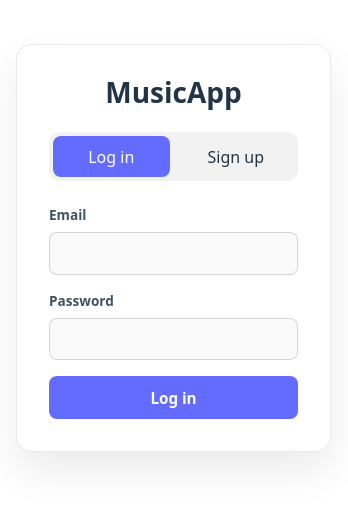
Test case: MVP-002 auth screen smoke › shows the server error when login is rejected
The width and height of the screenshot is (348, 515).
Type "ada@example.com" into the field labelled "Email" at (174, 253), box [49,232,298,275]
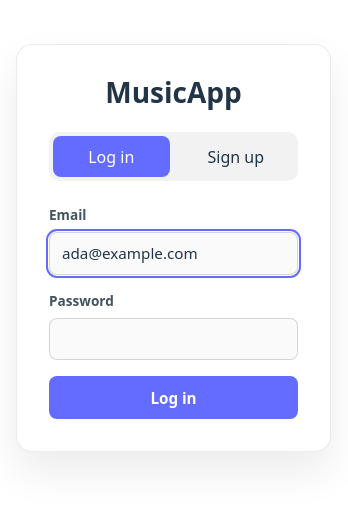
Type "password-1" into the password field labelled "Password" at (174, 339), box [49,318,298,360]
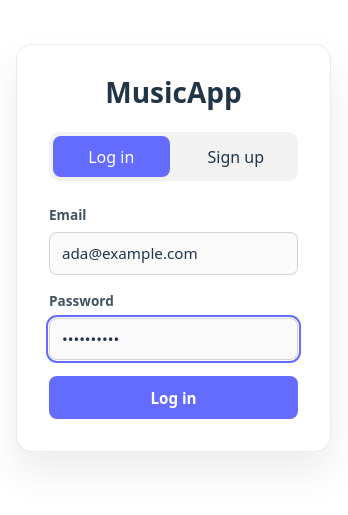
Click the button "Log in" at (174, 398), box [49,376,298,419]
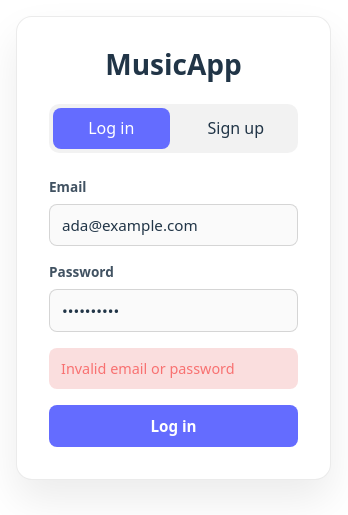
Expected: the text "Invalid email or password" is shown, [49,348,298,389]
